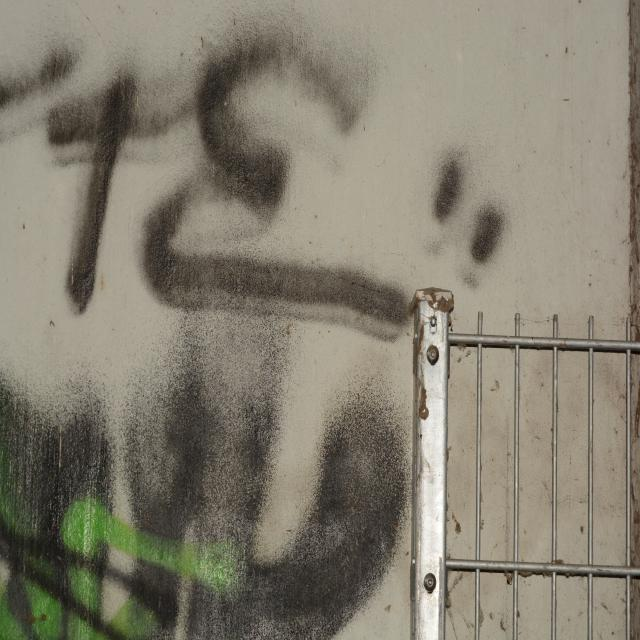corrosion: (425, 344, 440, 366), (424, 572, 437, 594)
